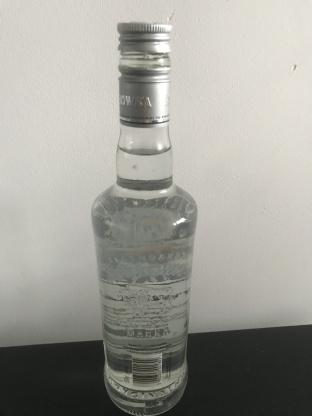nakretka: (116, 20, 173, 128)
